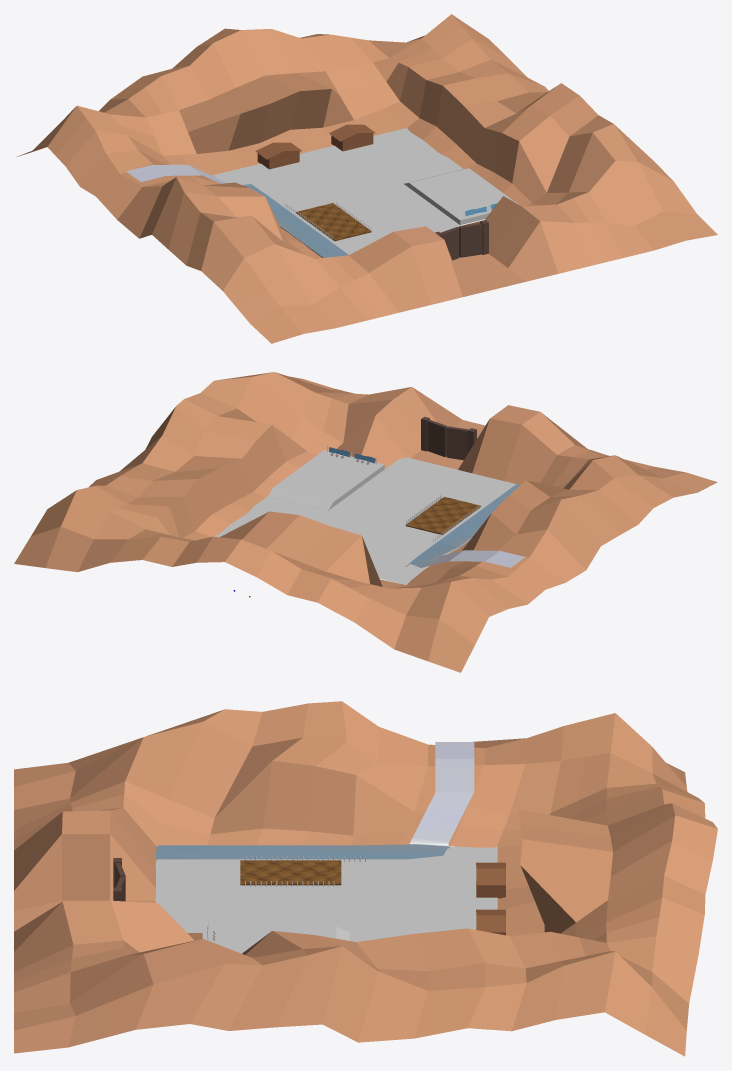
Rendered from map2.FBX.
The picture shows the model from 3 angles, top to bottom: view 1: azimuth 30°, elevation 25°; view 2: azimuth 150°, elevation 25°; view 3: azimuth 270°, elevation 25°; orthographic projection. The views are drawn at different scales.
Visible parts, largest first — view 1: Plane.004, Plane.003, Plane.006, Cube.009, Cube.020, Cube.008, Cube.011; view 2: Plane.004, Plane.003, Plane.006, Cube.009, Cube.020, Cube.019; view 3: Plane.004, Plane.003, Plane.006, Cube.009, Cube.011, Cube.008.
Part boxes in pixels (x1,y1,x2,y2): Plane.004: [17, 14, 717, 343]; Plane.003: [212, 128, 518, 257]; Plane.006: [126, 164, 348, 257]; Cube.009: [296, 203, 371, 241]; Cube.020: [458, 220, 488, 257]; Cube.008: [329, 124, 375, 151]; Cube.011: [255, 142, 301, 169]; Plane.004: [14, 372, 717, 672]; Plane.003: [214, 450, 515, 584]; Plane.006: [409, 483, 525, 567]; Cube.009: [405, 496, 481, 534]; Cube.020: [421, 416, 447, 456]; Cube.019: [446, 426, 476, 460]; Plane.004: [14, 701, 717, 1056]; Plane.003: [155, 846, 497, 953]; Plane.006: [155, 742, 474, 859]; Cube.009: [240, 860, 341, 885]; Cube.011: [476, 862, 505, 898]; Cube.008: [476, 909, 505, 935].
Size of the model in its own units: 21189 by 3407 by 21893.
